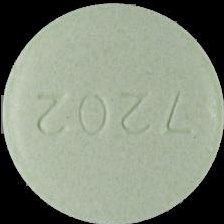42291-668: (0, 0, 224, 224)
